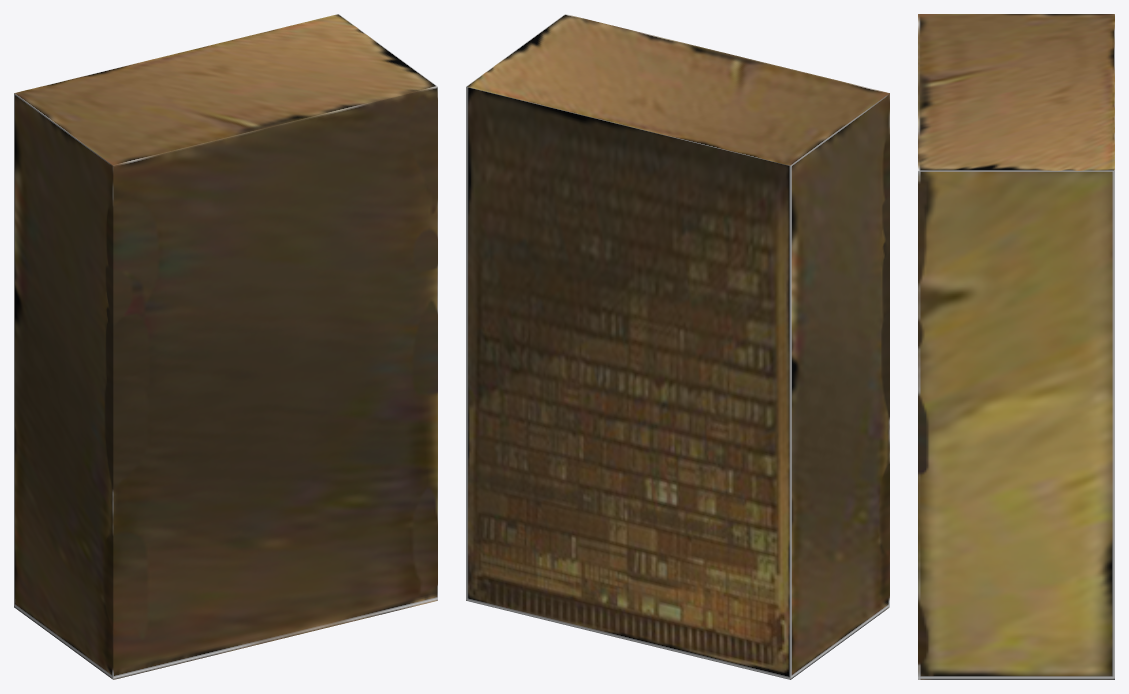
3 renders of one model, left to right at view 1: azimuth 30°, elevation 25°; view 2: azimuth 150°, elevation 25°; view 3: azimuth 270°, elevation 25°, orthographic.
Visible parts, largest first — view 1: Box085; view 2: Box085; view 3: Box085.
Boxes of the visible parts, box(x1,y1,x2,y2) form: Box085: box(14, 14, 437, 679); Box085: box(466, 14, 889, 679); Box085: box(918, 14, 1114, 679).
Bounding box in the file's own units: 42.62 × 64.5 × 22.6.
